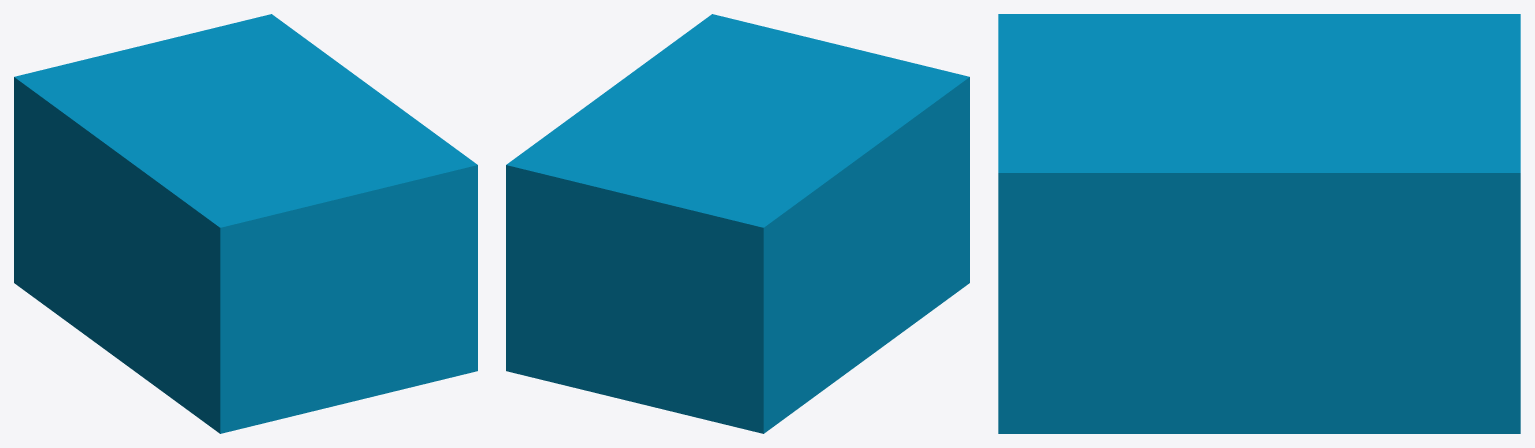
Rendered from tank2.obj.
The picture shows the model from 3 angles, left to right: view 1: azimuth 30°, elevation 25°; view 2: azimuth 150°, elevation 25°; view 3: azimuth 270°, elevation 25°; orthographic projection. The views are drawn at different scales.
Parts seen in each view (by area): view 1: tank.002; view 2: tank.002; view 3: tank.002.
Boxes of the visible parts, left/top/right/bottom form: tank.002: left=14, top=14, right=477, bottom=433; tank.002: left=506, top=14, right=969, bottom=433; tank.002: left=998, top=14, right=1520, bottom=433.
Bounding box in the file's own units: 3.63 × 2.78 × 5.04.
